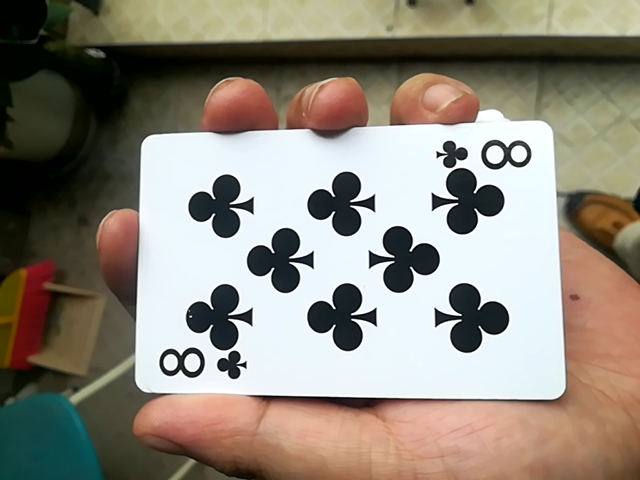mh 8: (123, 120, 554, 421)
